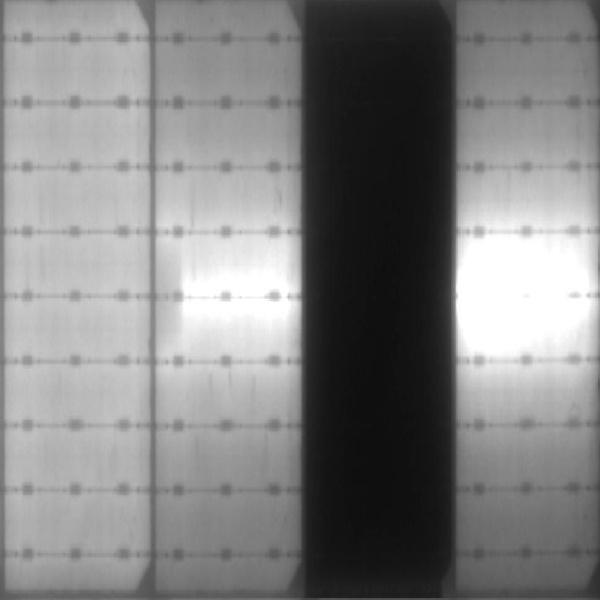hot_spot: (460, 244, 580, 297), (459, 299, 580, 341), (179, 303, 295, 320), (185, 277, 281, 291)
no_electricity: (306, 1, 454, 595)
